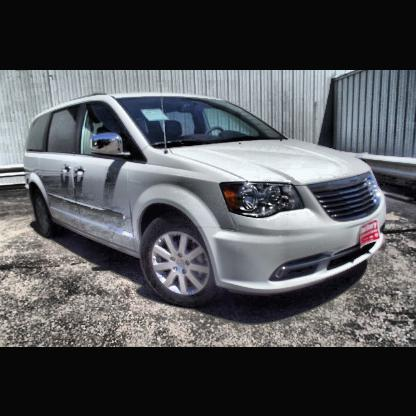Chrysler Town and Country Minivan 2012: (23, 91, 394, 313)
